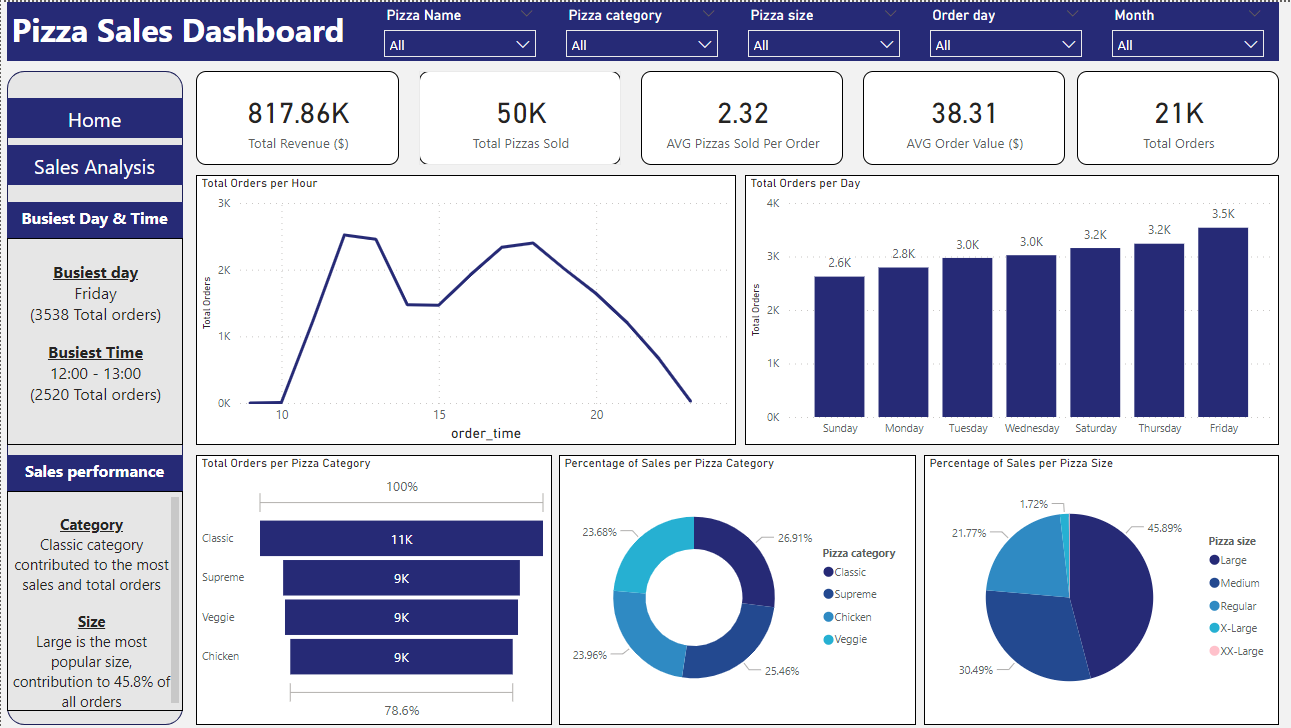

This screenshot's page, from the dashboard's own definition file:
{"tool":"powerbi","page":{"name":"Home","canvas":[1295,730],"ordinal":0},"visuals":[{"type":"textbox","box":[6,0,1272,59],"z":0},{"type":"card","fields":{"Values":["pizza_sales.Total Revenue"]},"box":[195,69,203,94],"z":1000},{"type":"card","fields":{"Values":["pizza_sales.AVG Order Value"]},"box":[862,69,202,94],"z":2000},{"type":"card","fields":{"Values":["pizza_sales.Total Pizzas Sold"]},"box":[418,69,202,94],"z":3000},{"type":"card","fields":{"Values":["pizza_sales.Total Orders"]},"box":[1076,69,202,94],"z":4000},{"type":"card","fields":{"Values":["pizza_sales.AVG Pizzas Sold Per Order"]},"box":[640,69,202,94],"z":5000},{"type":"columnChart","title":"Total Orders per Day","fields":{"Category":["pizza_sales.Order_day"],"Y":["pizza_sales.Total Orders"]},"box":[744,173,534,270],"z":6000},{"type":"funnel","title":"Total Orders per Pizza Category","fields":{"Category":["pizza_sales.pizza_category"],"Y":["pizza_sales.Total Orders"]},"box":[195,453,356,270],"z":7000},{"type":"lineChart","title":"Total Orders per Hour","fields":{"Y":["pizza_sales.Total Orders"],"Category":["pizza_sales.order_time"]},"box":[195,173,540,270],"z":8000},{"type":"donutChart","title":"Percentage of Sales per Pizza Category","fields":{"Y":["pizza_sales.SalesPercentagePerCategory"],"Category":["pizza_sales.pizza_category"]},"box":[558,453,357,270],"z":9000},{"type":"pieChart","title":"Percentage of Sales per Pizza Size","fields":{"Category":["pizza_sales.pizza_size"],"Y":["pizza_sales.SalesPercentagePerSize"]},"box":[923,453,355,270],"z":10000},{"type":"slicer","fields":{"Values":["pizza_sales.pizza_name"]},"box":[373,0,172,59],"z":11000},{"type":"slicer","fields":{"Values":["pizza_sales.pizza_category"]},"box":[555,0,172,59],"z":12000},{"type":"slicer","fields":{"Values":["pizza_sales.pizza_size"]},"box":[737,0,172,59],"z":13000},{"type":"slicer","fields":{"Values":["pizza_sales.Order_day"]},"box":[919,0,172,59],"z":14000},{"type":"slicer","fields":{"Values":["pizza_sales.order_date.Variation.Date Hierarchy.Month"]},"box":[1101,0,172,59],"z":15000},{"type":"shape","box":[6,69,176,654],"z":16000},{"type":"actionButton","box":[6,96,176,40],"z":18000},{"type":"actionButton","box":[6,143,176,40],"z":18001},{"type":"textbox","box":[6,200,176,36],"z":18002},{"type":"textbox","box":[6,236,176,207],"z":18003},{"type":"textbox","box":[6,453,176,36],"z":18004},{"type":"textbox","box":[6,489,176,220],"z":18005}]}

Visuals, with their boxes in screenshot pixels (x1, y1, x2, y2), scaled from the page's 1295x730 canvas onto the 1291x728 screenshot:
textbox: Rect(6, 0, 1274, 59)
card - pizza_sales.Total Revenue: Rect(194, 69, 397, 163)
card - pizza_sales.AVG Order Value: Rect(859, 69, 1061, 163)
card - pizza_sales.Total Pizzas Sold: Rect(417, 69, 618, 163)
card - pizza_sales.Total Orders: Rect(1073, 69, 1274, 163)
card - pizza_sales.AVG Pizzas Sold Per Order: Rect(638, 69, 839, 163)
"Total Orders per Day" columnChart: Rect(742, 173, 1274, 442)
"Total Orders per Pizza Category" funnel: Rect(194, 452, 549, 721)
"Total Orders per Hour" lineChart: Rect(194, 173, 733, 442)
"Percentage of Sales per Pizza Category" donutChart: Rect(556, 452, 912, 721)
"Percentage of Sales per Pizza Size" pieChart: Rect(920, 452, 1274, 721)
slicer - pizza_sales.pizza_name: Rect(372, 0, 543, 59)
slicer - pizza_sales.pizza_category: Rect(553, 0, 725, 59)
slicer - pizza_sales.pizza_size: Rect(735, 0, 906, 59)
slicer - pizza_sales.Order_day: Rect(916, 0, 1088, 59)
slicer - pizza_sales.order_date.Variation.Date Hierarchy.Month: Rect(1098, 0, 1269, 59)
shape: Rect(6, 69, 181, 721)
actionButton: Rect(6, 96, 181, 136)
actionButton: Rect(6, 143, 181, 182)
textbox: Rect(6, 199, 181, 235)
textbox: Rect(6, 235, 181, 442)
textbox: Rect(6, 452, 181, 488)
textbox: Rect(6, 488, 181, 707)
